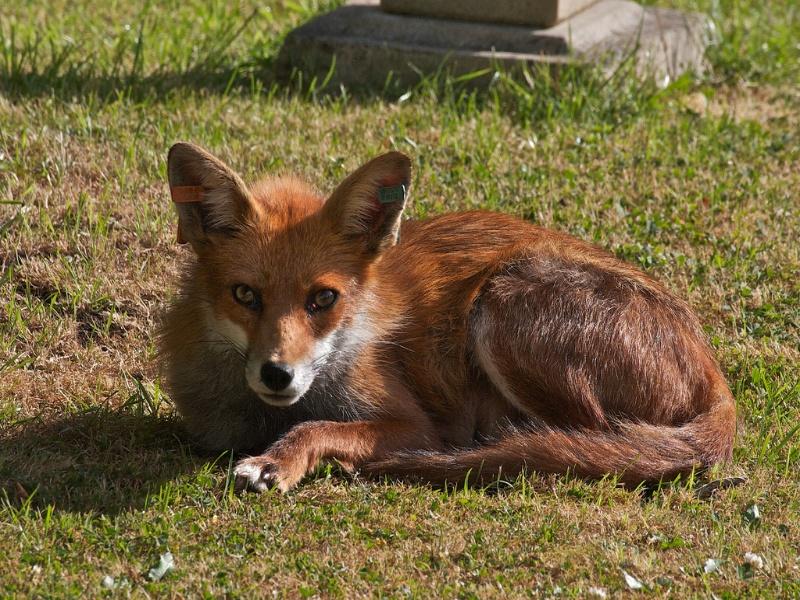fox: (150, 145, 741, 505)
